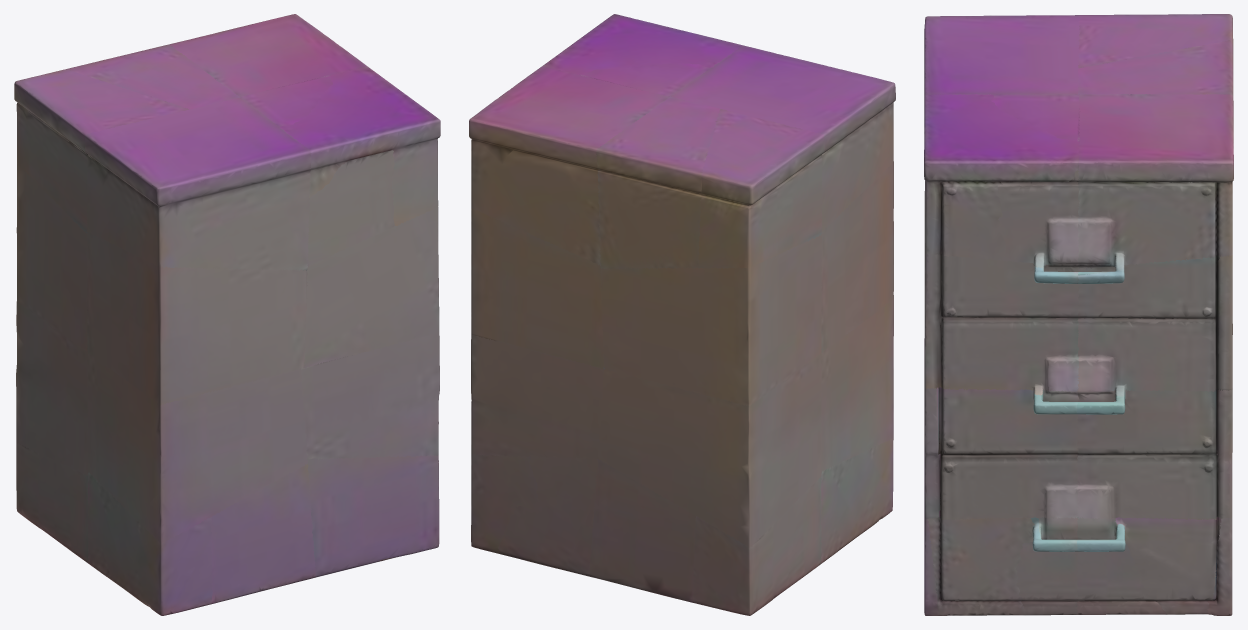
File: filing_cabinet.glb
3 renders of one model, left to right at view 1: azimuth 30°, elevation 25°; view 2: azimuth 150°, elevation 25°; view 3: azimuth 270°, elevation 25°, orthographic. The views are drawn at different scales.
Parts seen in each view (by area): view 1: tripo_node_79cccf50-de40-4cb1-b480-dbc48181b400; view 2: tripo_node_79cccf50-de40-4cb1-b480-dbc48181b400; view 3: tripo_node_79cccf50-de40-4cb1-b480-dbc48181b400.
Part boxes in pixels (<box>): tripo_node_79cccf50-de40-4cb1-b480-dbc48181b400: <box>14,14,440,615</box>; tripo_node_79cccf50-de40-4cb1-b480-dbc48181b400: <box>469,14,895,615</box>; tripo_node_79cccf50-de40-4cb1-b480-dbc48181b400: <box>924,14,1233,615</box>.
Bounding box in the file's own units: 0.7313 × 1 × 0.6022.
Materials: 1 (1 with a texture image).
